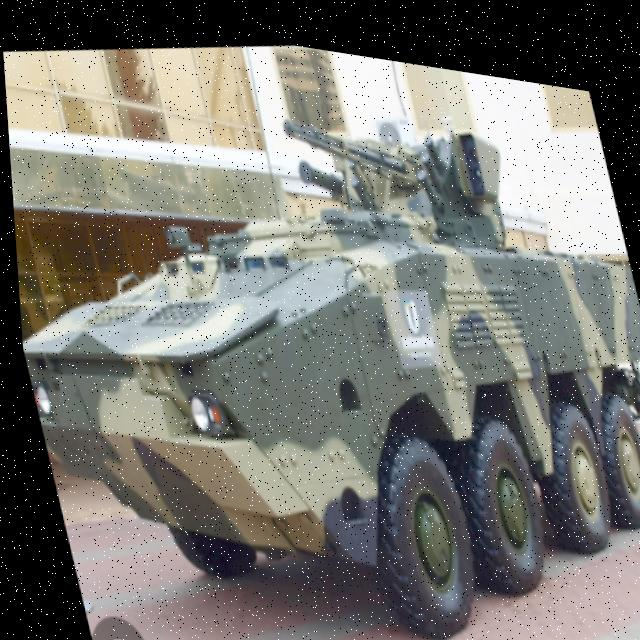MIL_APC: (3, 56, 640, 640)
